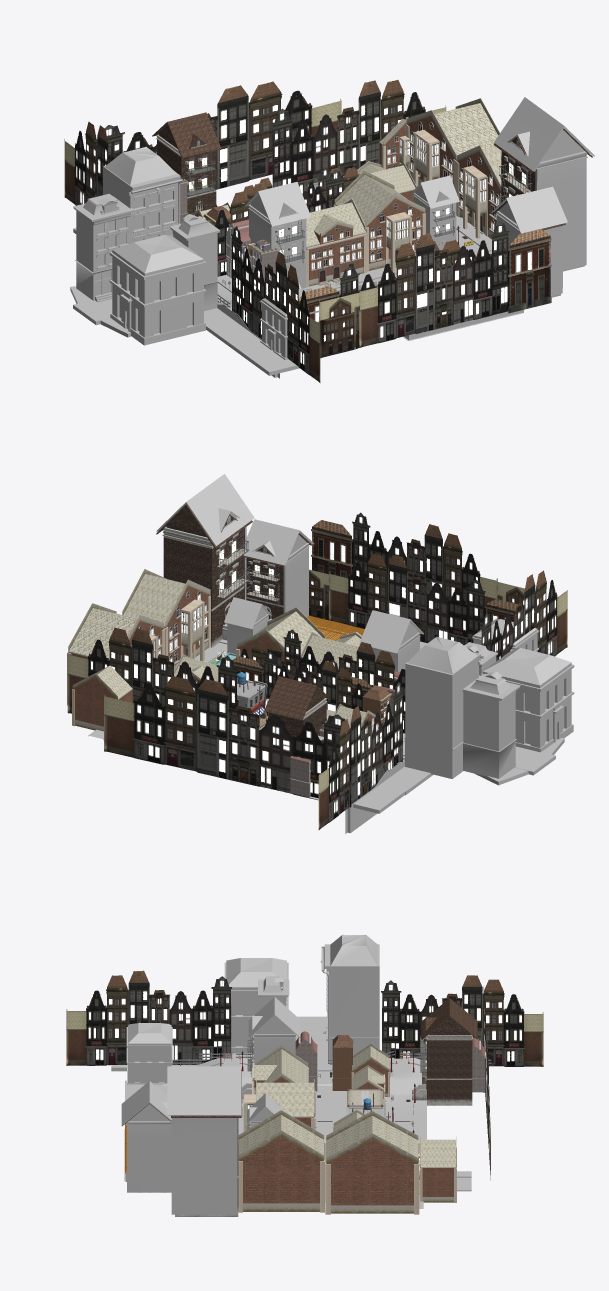
File: RFM Fuji.fbx
The picture shows the model from 3 angles, top to bottom: view 1: azimuth 30°, elevation 25°; view 2: azimuth 150°, elevation 25°; view 3: azimuth 270°, elevation 25°; orthographic projection. The views are drawn at different scales.
Parts seen in each view (by area): view 1: MeshBaker__5__mesh_mesh, MeshBaker__3__mesh_mesh, MeshBaker__0__mesh_mesh, MeshBaker__13__mesh_mesh, MeshBaker__8__mesh_mesh, MeshBaker__4__mesh_mesh, MeshBaker__12__mesh_mesh; view 2: MeshBaker__5__mesh_mesh, MeshBaker__3__mesh_mesh, MeshBaker__0__mesh_mesh, MeshBaker__13__mesh_mesh, MeshBaker__8__mesh_mesh, MeshBaker__4__mesh_mesh, MeshBaker__12__mesh_mesh, MeshBaker__7__mesh_mesh; view 3: MeshBaker__3__mesh_mesh, MeshBaker__5__mesh_mesh, MeshBaker__0__mesh_mesh, MeshBaker__13__mesh_mesh, MeshBaker__4__mesh_mesh, MeshBaker__8__mesh_mesh, MeshBaker__12__mesh_mesh, MeshBaker__11__mesh_mesh.
Part boxes in pixels (x1,y1,x2,y2): MeshBaker__5__mesh_mesh: [64, 80, 551, 382]; MeshBaker__3__mesh_mesh: [379, 97, 594, 297]; MeshBaker__0__mesh_mesh: [73, 146, 219, 345]; MeshBaker__13__mesh_mesh: [244, 170, 459, 359]; MeshBaker__8__mesh_mesh: [70, 215, 523, 378]; MeshBaker__4__mesh_mesh: [152, 112, 416, 214]; MeshBaker__12__mesh_mesh: [176, 172, 278, 281]; MeshBaker__5__mesh_mesh: [67, 512, 567, 830]; MeshBaker__3__mesh_mesh: [67, 474, 314, 731]; MeshBaker__0__mesh_mesh: [404, 636, 574, 778]; MeshBaker__13__mesh_mesh: [210, 597, 539, 672]; MeshBaker__8__mesh_mesh: [88, 616, 564, 833]; MeshBaker__4__mesh_mesh: [174, 654, 335, 737]; MeshBaker__12__mesh_mesh: [290, 671, 399, 797]; MeshBaker__7__mesh_mesh: [307, 615, 364, 640]; MeshBaker__3__mesh_mesh: [121, 1066, 456, 1216]; MeshBaker__5__mesh_mesh: [66, 970, 543, 1180]; MeshBaker__0__mesh_mesh: [224, 934, 379, 1064]; MeshBaker__13__mesh_mesh: [126, 997, 315, 1131]; MeshBaker__4__mesh_mesh: [333, 998, 477, 1131]; MeshBaker__8__mesh_mesh: [111, 1016, 485, 1208]; MeshBaker__12__mesh_mesh: [250, 1031, 487, 1097]; MeshBaker__11__mesh_mesh: [172, 1051, 491, 1077].
Bounding box in the file's own units: 12075 × 4504 × 13530.
